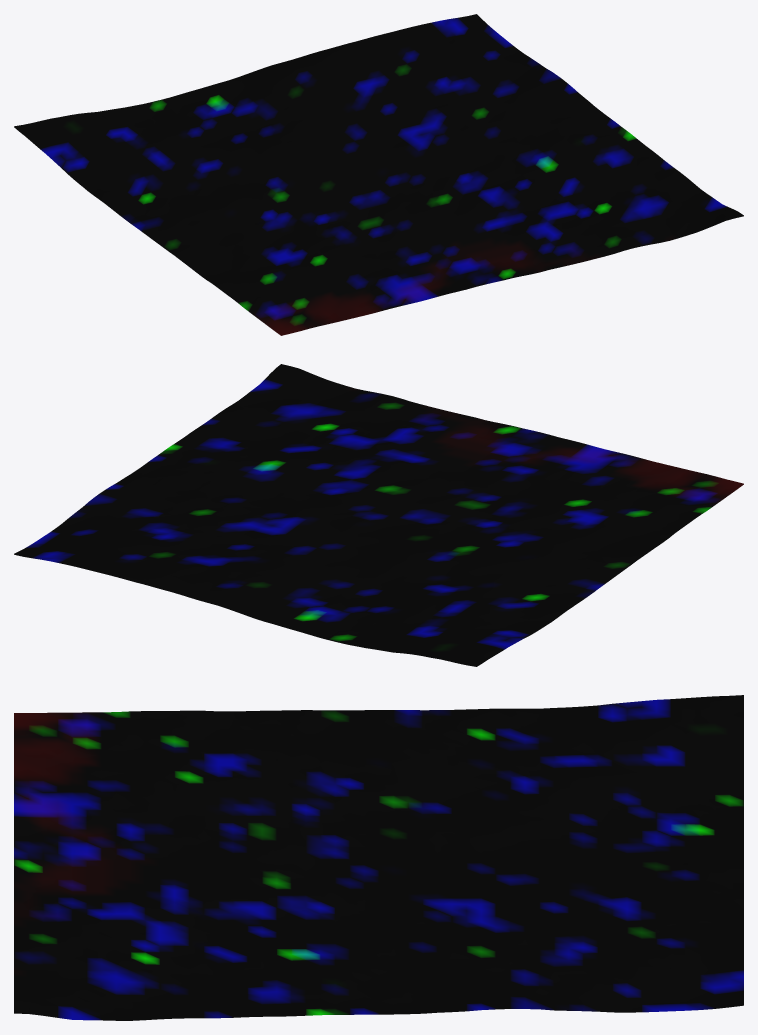
File: coast_-2400_-1600_800.glb
3 views of the same model, one above another, from view 1: azimuth 30°, elevation 25°; view 2: azimuth 150°, elevation 25°; view 3: azimuth 270°, elevation 25° (orthographic). The views are drawn at different scales.
Visible parts, largest first — view 1: terrain; view 2: terrain; view 3: terrain.
Boxes of the visible parts, box(x1,y1,x2,y2) form: terrain: box(14, 14, 743, 335); terrain: box(14, 364, 743, 666); terrain: box(14, 695, 743, 1020).
Bounding box in the file's own units: 800 × 26.99 × 800.
